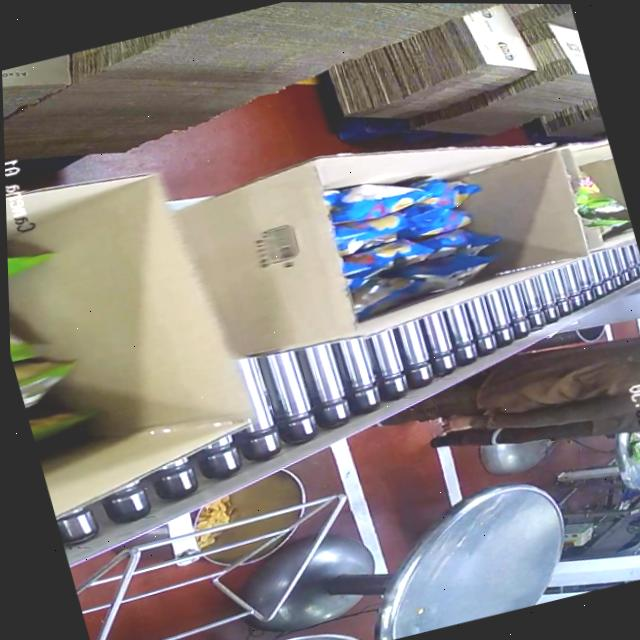PAPRIKA: (319, 147, 505, 309)
